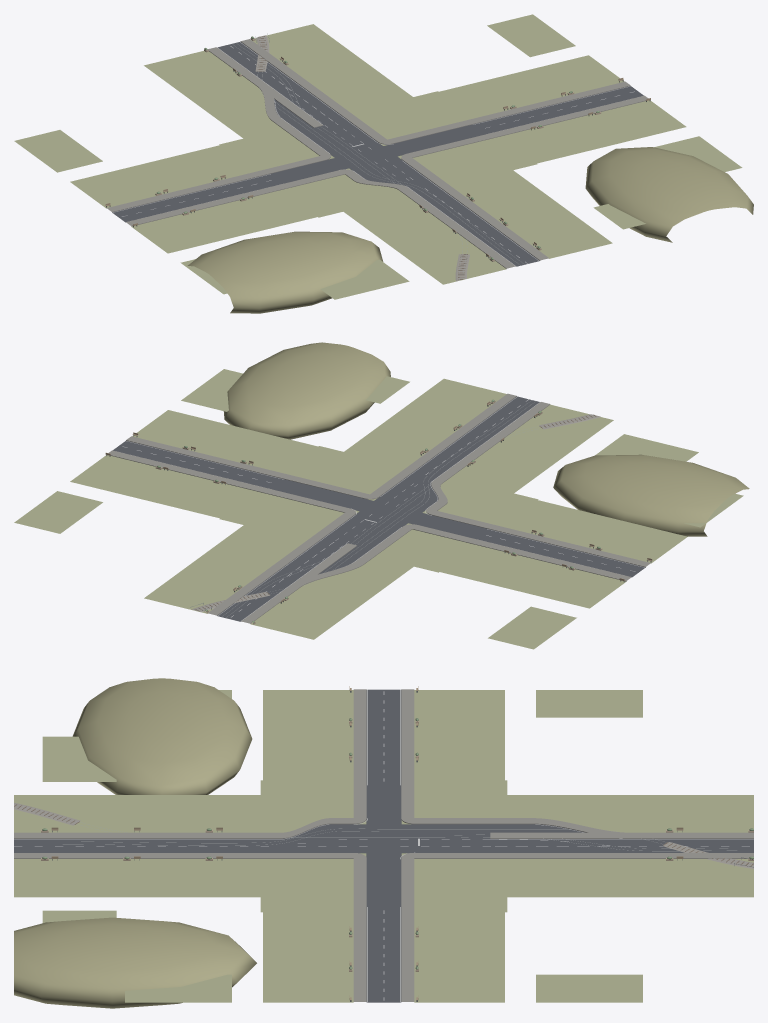
3 renders of one model, top to bottom at view 1: azimuth 30°, elevation 25°; view 2: azimuth 150°, elevation 25°; view 3: azimuth 270°, elevation 25°, orthographic. The views are drawn at different scales.
Parts seen in each view (by area): view 1: static; view 2: static; view 3: static.
Part boxes in pixels (<box>): static: <box>14,14,753,313</box>; static: <box>14,342,749,649</box>; static: <box>14,678,753,1008</box>.
Size of what is drawn, in the model's own units: 180 by 14.08 by 180.
